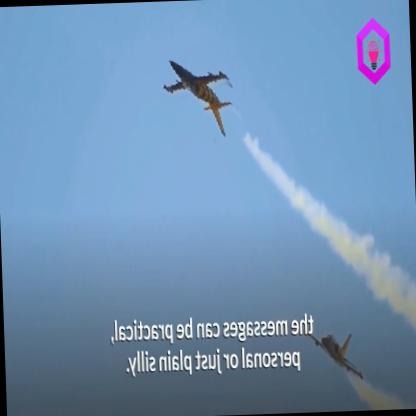plane: (153, 41, 242, 155)
